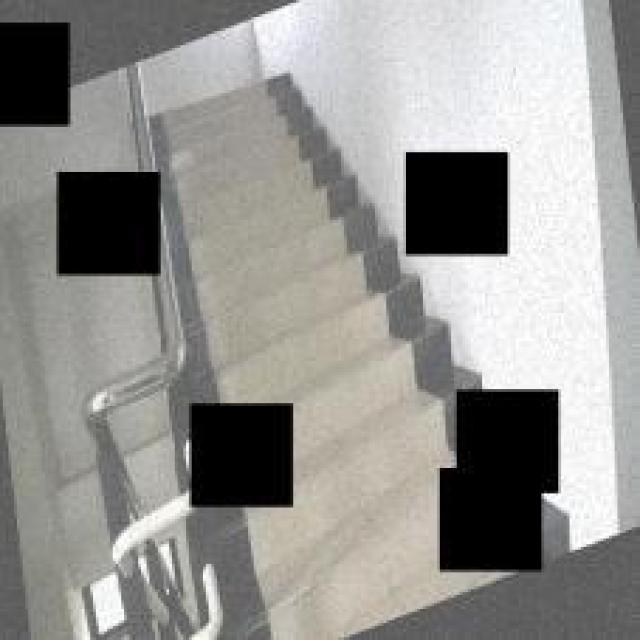upstair: (165, 111, 396, 370)
